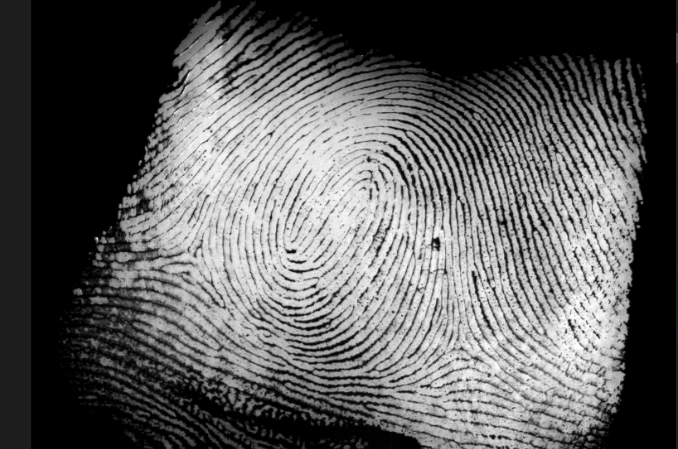deltas: (415, 306, 509, 388), (165, 222, 228, 299)
nucleo: (315, 163, 399, 259)
